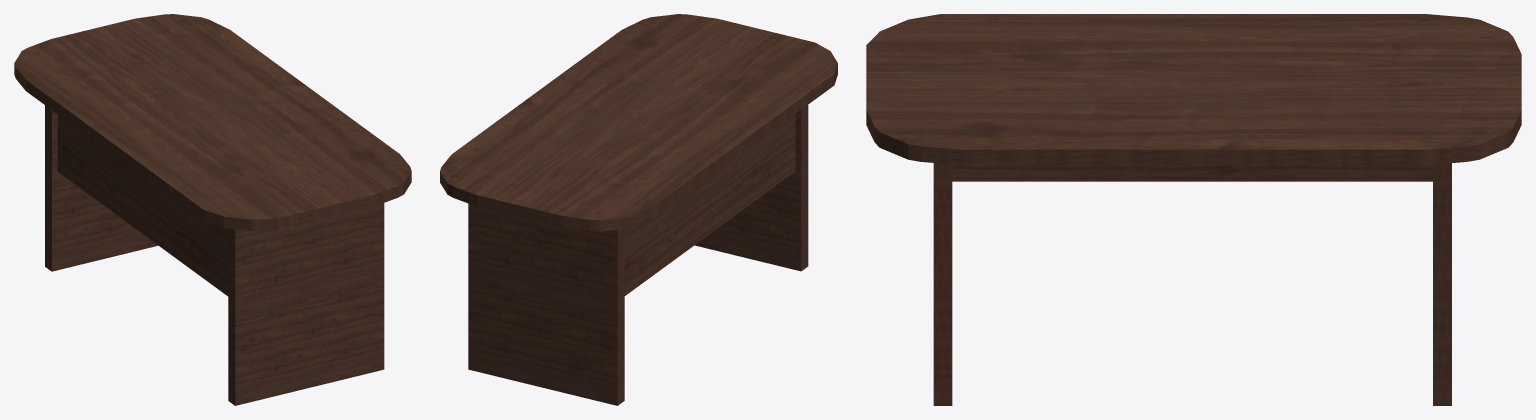
The model's file is pcTable.fbx.
3 views of the same model, side by side, from view 1: azimuth 30°, elevation 25°; view 2: azimuth 150°, elevation 25°; view 3: azimuth 270°, elevation 25° (orthographic). The views are drawn at different scales.
Visible parts, largest first — view 1: Cube.003; view 2: Cube.003; view 3: Cube.003.
Boxes of the visible parts, box(x1,y1,x2,y2) form: Cube.003: box(14, 14, 411, 405); Cube.003: box(440, 14, 837, 405); Cube.003: box(866, 14, 1521, 405).
Bounding box in the file's own units: 85.08 × 80.06 × 174.
